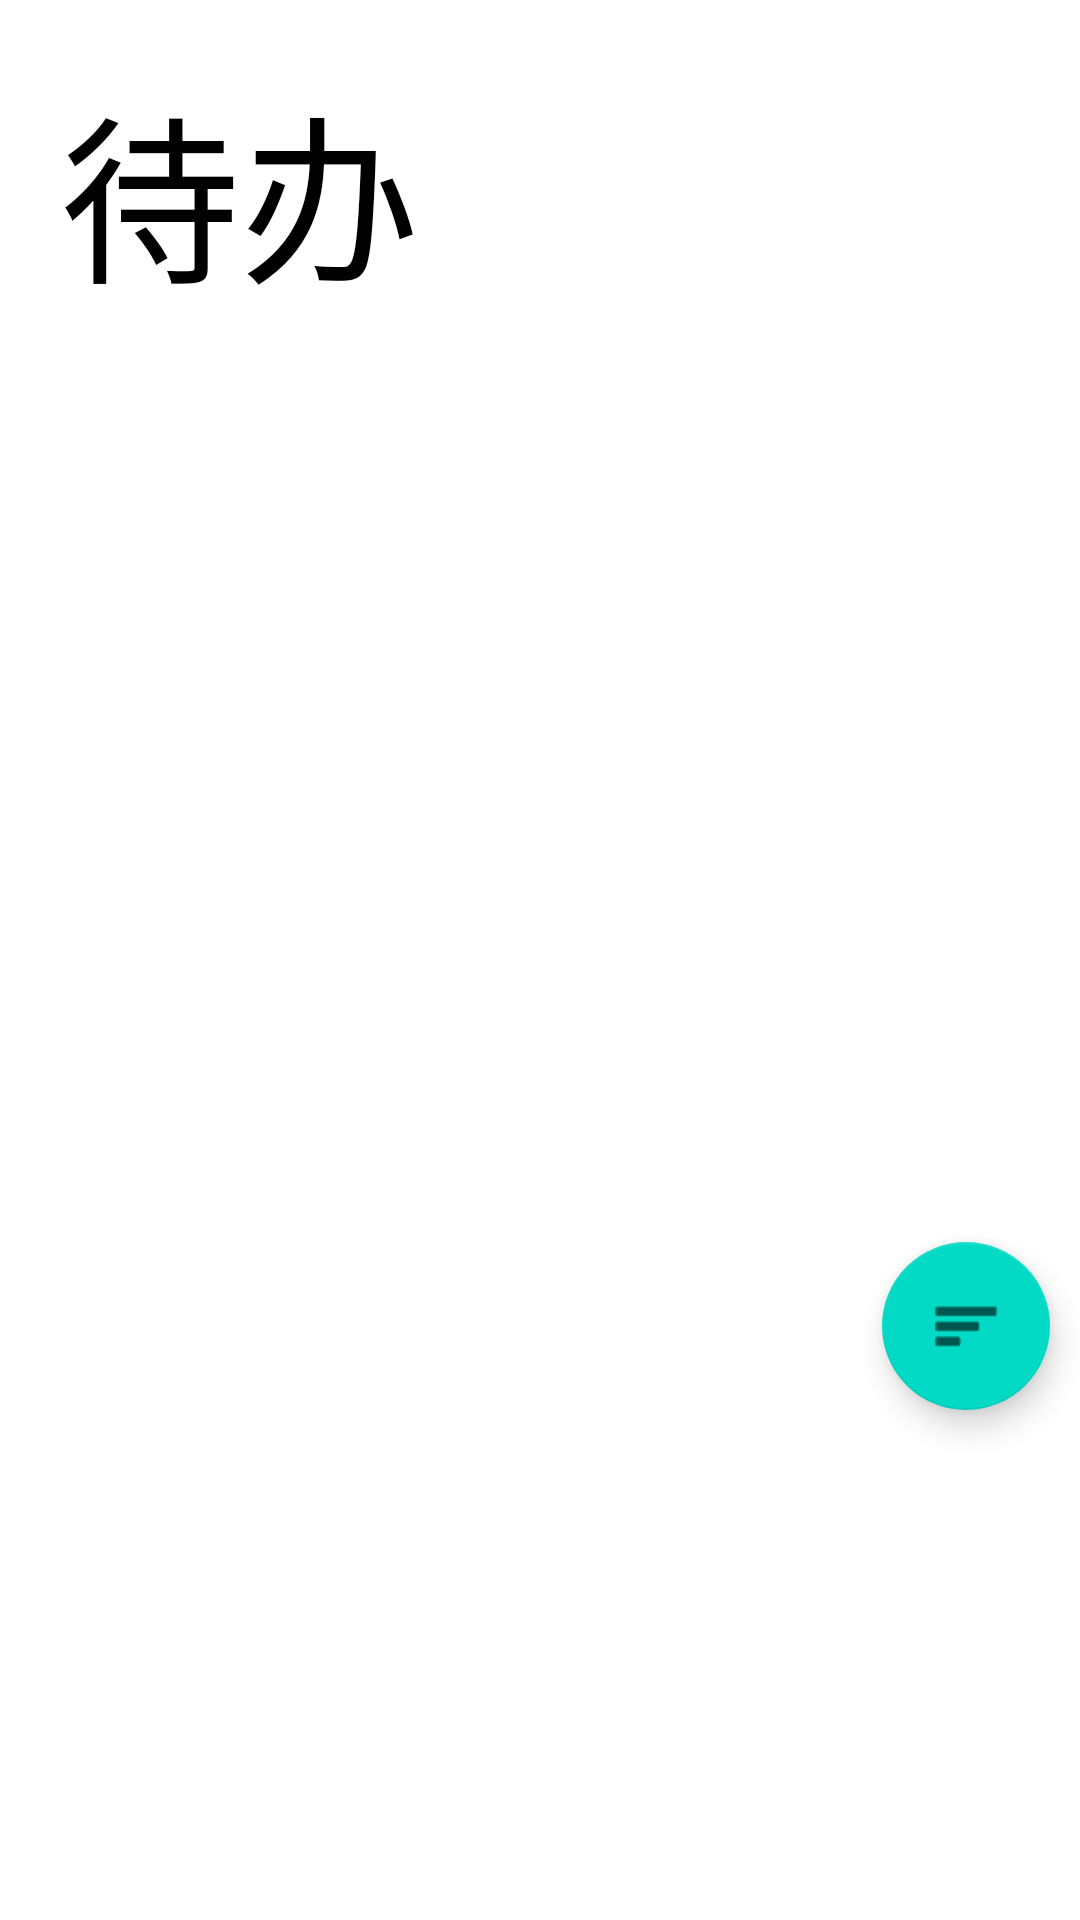

Icons on this 1080 x 1920 Android screen, each with its box as [left=x1, top=y1, right=x2, bottom=y2]:
sort by size: [left=882, top=1242, right=1050, bottom=1410]
